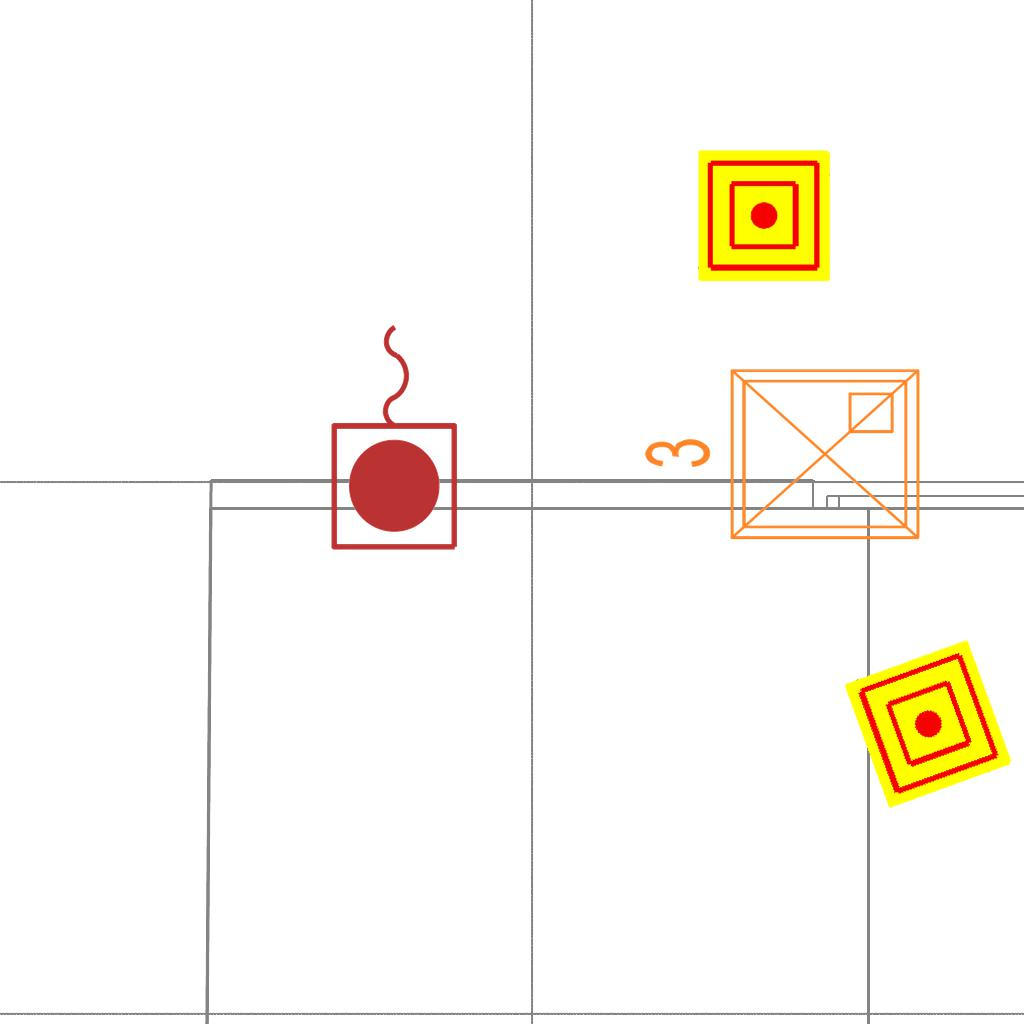Einbaudownlights_LED_Konferenzraeume: (634, 354, 934, 562)
NAM-Nichtautomatischer_Melder: (843, 639, 1013, 809), (698, 150, 830, 282)
Zugtaster: (324, 314, 468, 558)
